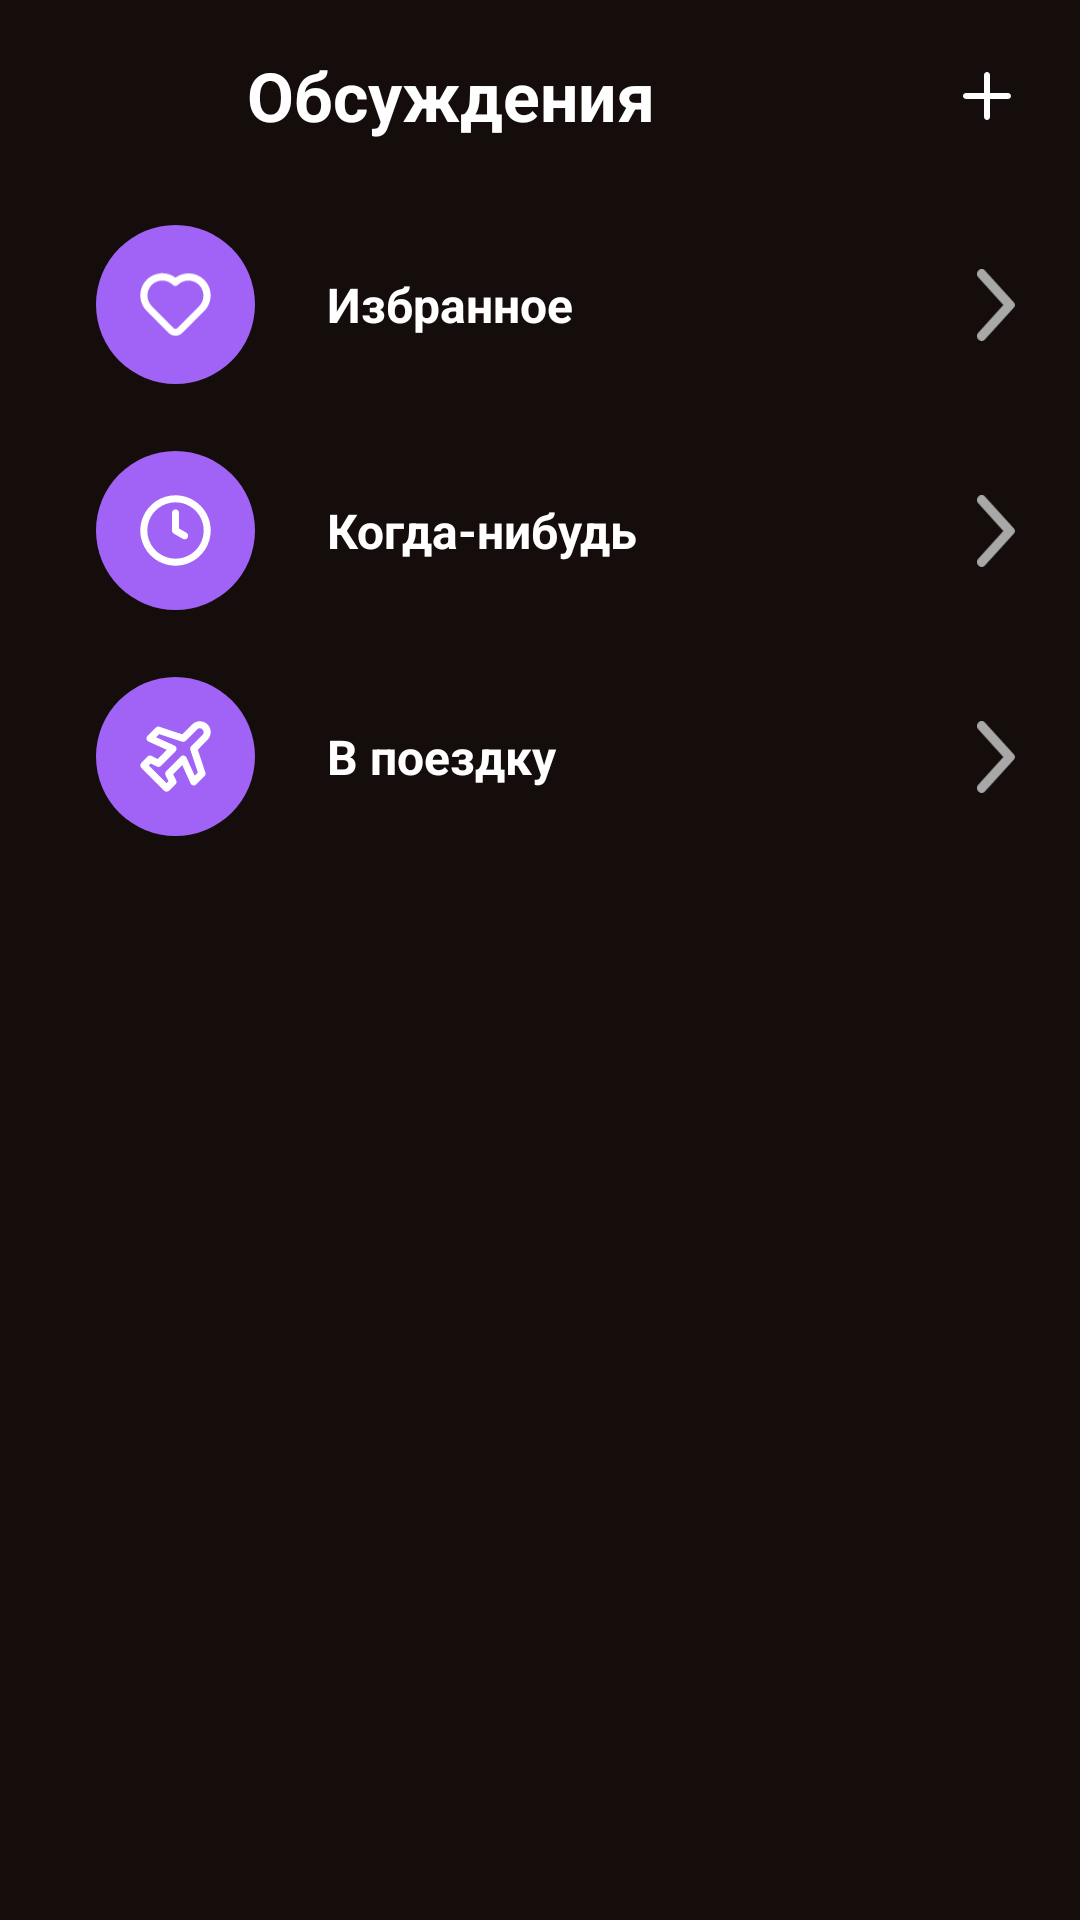

Named icons in this screenshot (1080×1920) and their centers, point (x, y):
arrow: point (996, 305), point (996, 531), point (996, 757)
heart: point (175, 304)
plane: point (175, 756)
plus: point (987, 96)
time: point (175, 530)
